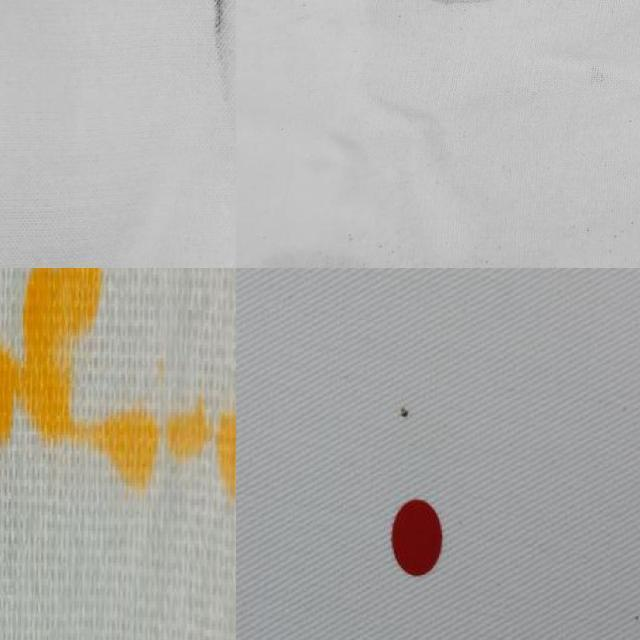Thread_other: (0, 268, 236, 530), (368, 386, 436, 440)
